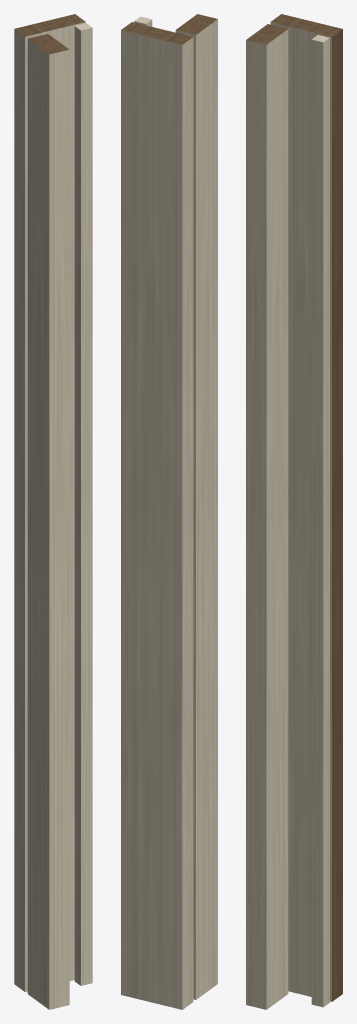
Rendered from house_02_corner_trim.glb.
3 renders of one model, left to right at view 1: azimuth 30°, elevation 25°; view 2: azimuth 150°, elevation 25°; view 3: azimuth 330°, elevation 25°, orthographic.
Parts seen in each view (by area): view 1: outdoor_house_02_corner_trim; view 2: outdoor_house_02_corner_trim; view 3: outdoor_house_02_corner_trim.
Boxes of the visible parts, x1,y1,x2,y2 form: outdoor_house_02_corner_trim: (14,14,92,1009); outdoor_house_02_corner_trim: (121,14,217,1009); outdoor_house_02_corner_trim: (246,14,342,1009).
Size of the model in its own units: 0.18 by 2.7 by 0.18.
1 material, 1 textured.
